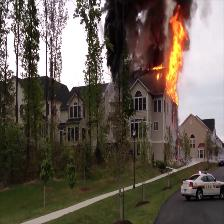fire: (167, 20, 181, 98)
smoke: (108, 4, 165, 61), (178, 3, 195, 16)
